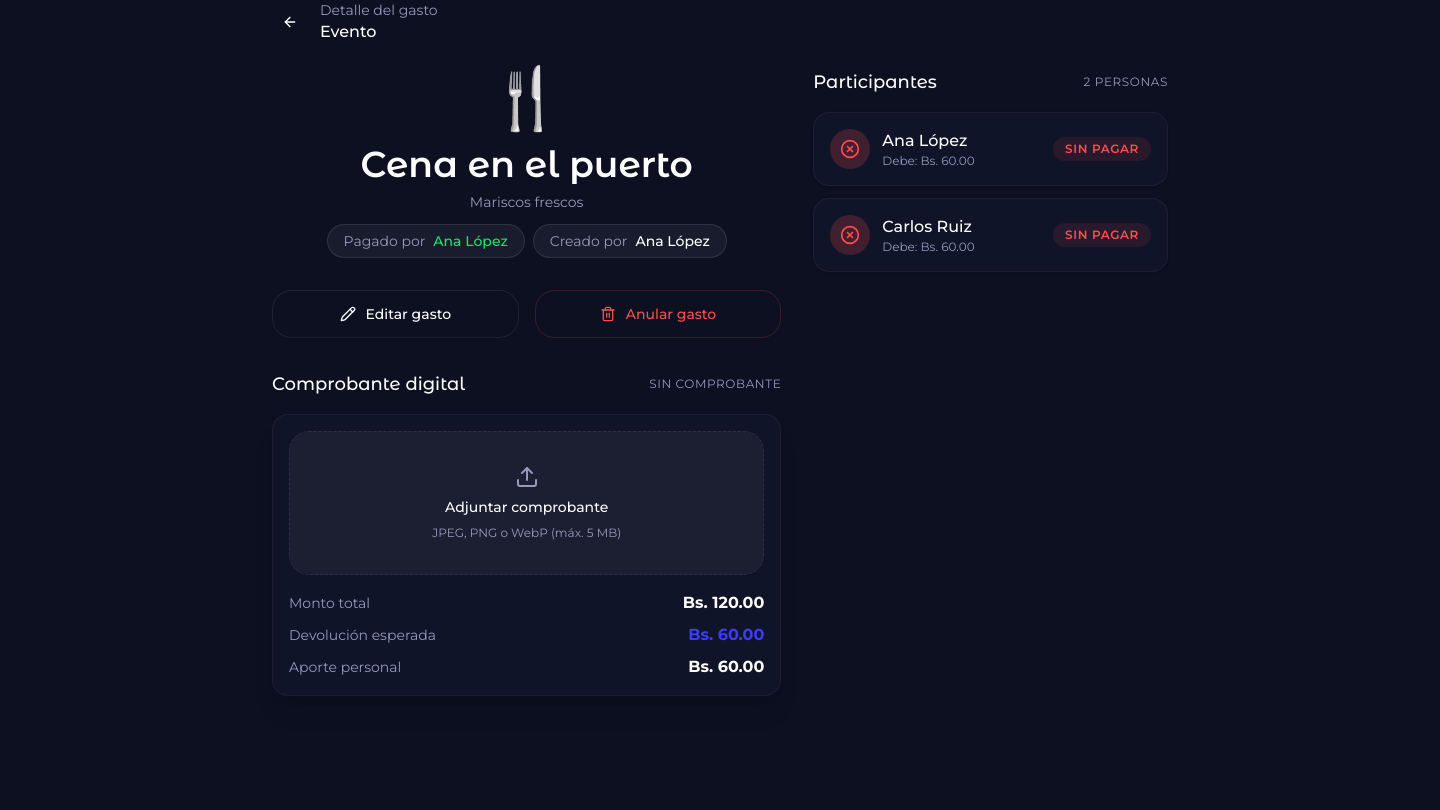
Scenario: ExpenseDetailView › abre diálogo de confirmación al hacer click en anular gasto
Click the button "Anular gasto" at (658, 314), box [535,290,781,338]
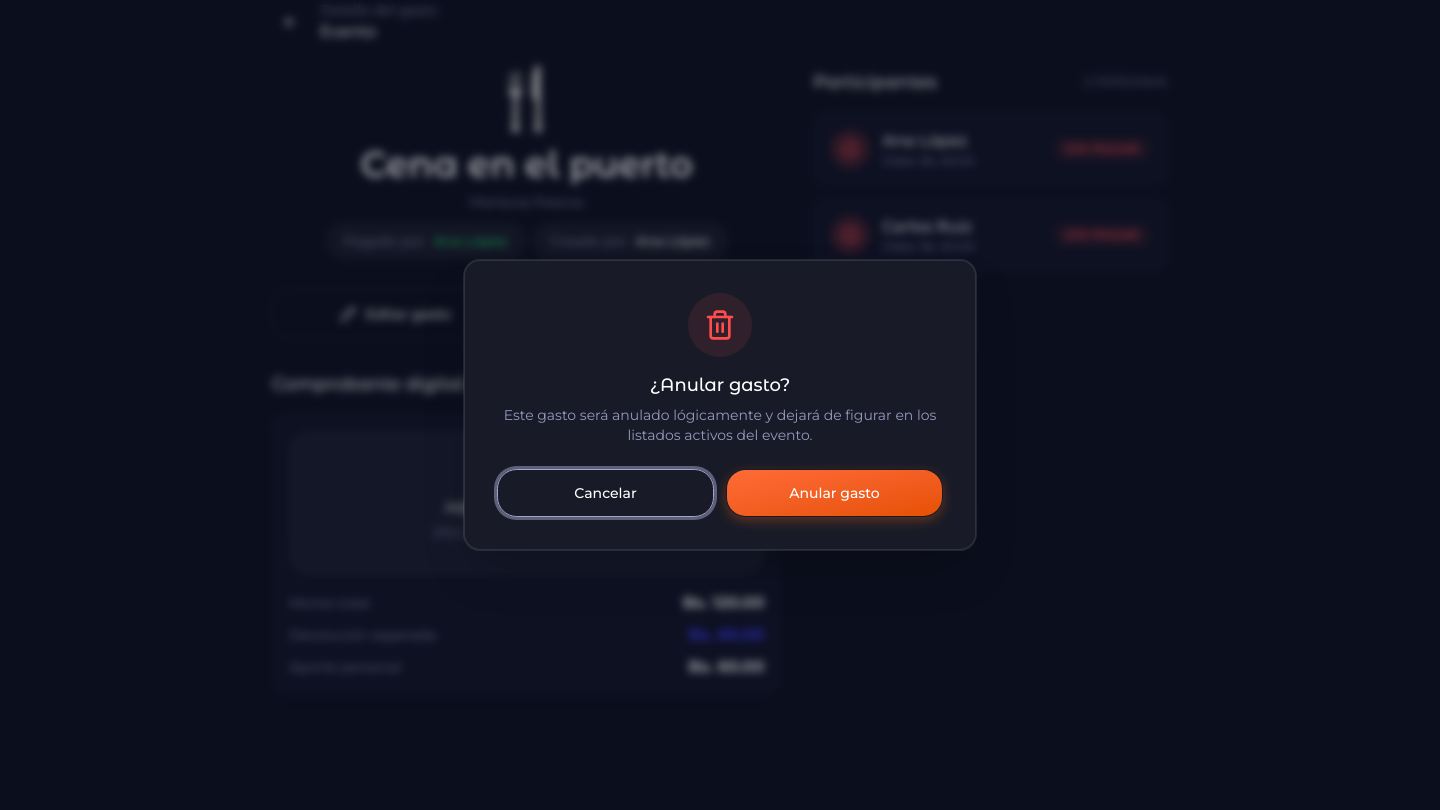
Expected: the heading "¿Anular gasto?" is shown, [650,374,790,396]
